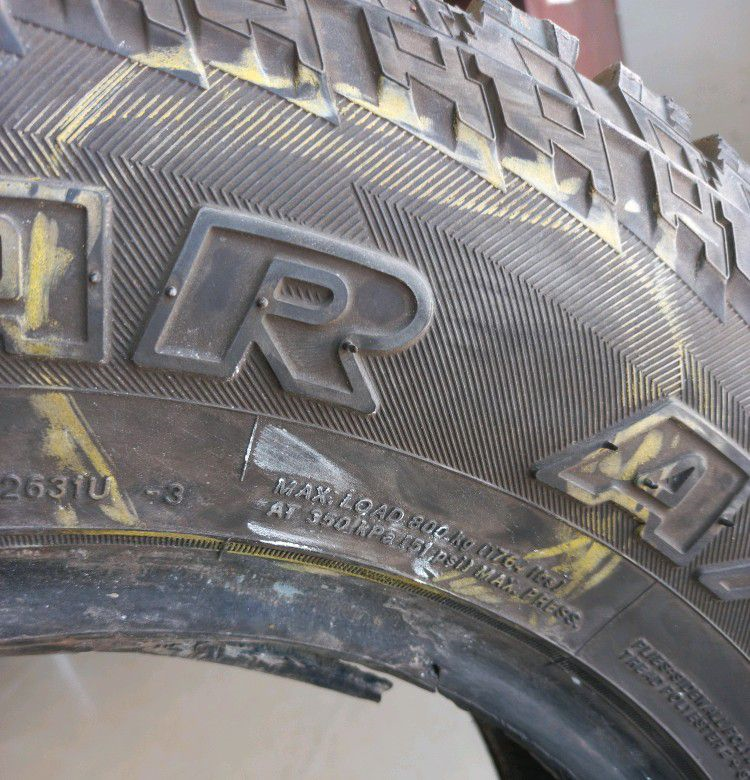bead_damage: (71, 614, 421, 704)
